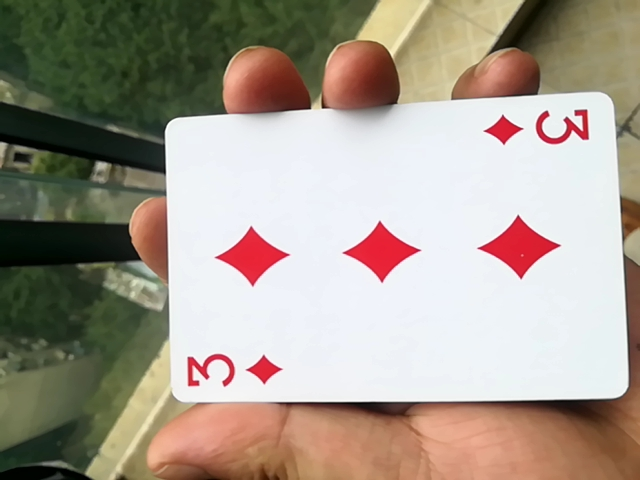fk 3: (142, 110, 631, 427)
